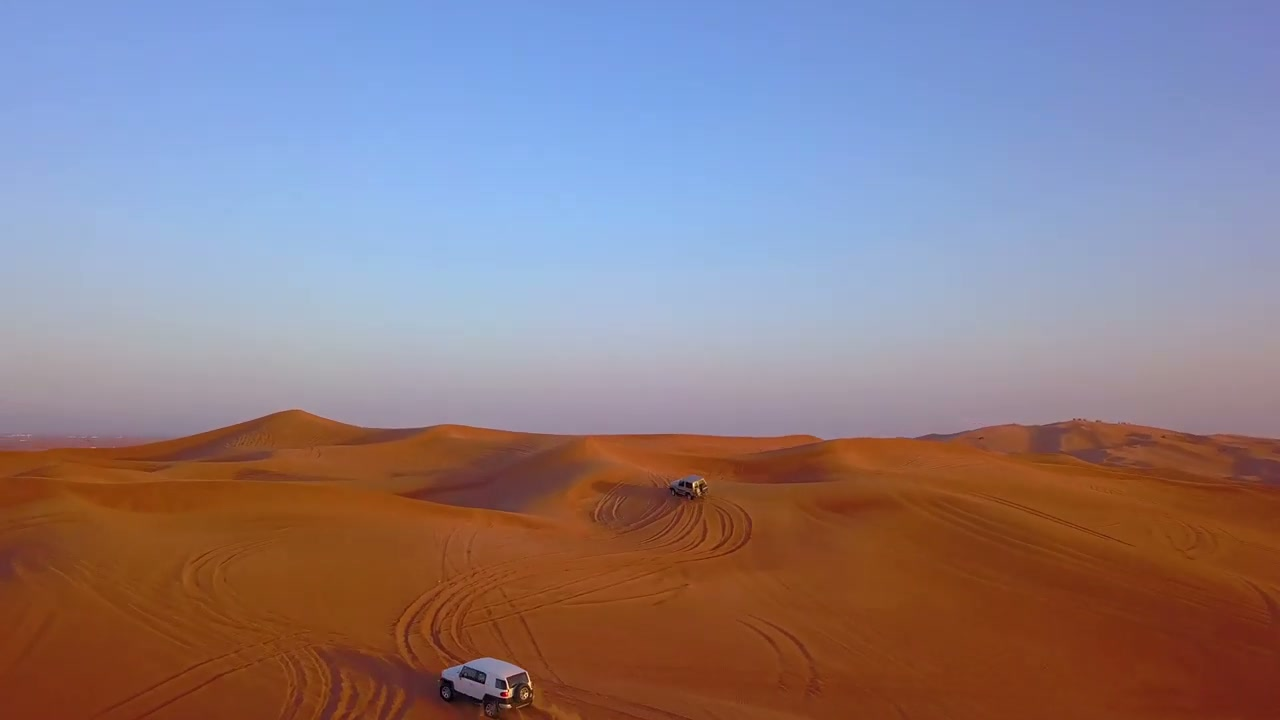vehicle_track: (394, 482, 751, 719), (908, 496, 1247, 615), (465, 500, 752, 626), (751, 576, 983, 717), (393, 551, 564, 666), (93, 632, 304, 718), (908, 496, 1100, 570), (50, 561, 208, 648), (463, 565, 670, 628), (291, 635, 420, 719), (180, 534, 287, 631), (971, 492, 1133, 547), (392, 528, 456, 666), (428, 568, 517, 661), (739, 615, 823, 697), (541, 680, 691, 719), (0, 594, 54, 675), (738, 618, 791, 692), (285, 643, 334, 719), (311, 651, 365, 719), (697, 497, 753, 559), (640, 500, 705, 552), (605, 486, 670, 536), (560, 583, 689, 605), (275, 647, 313, 719), (1160, 516, 1218, 559), (639, 501, 690, 548), (0, 511, 82, 536), (1241, 577, 1279, 629), (1218, 526, 1279, 555), (590, 483, 621, 527), (489, 622, 514, 655), (439, 529, 456, 576), (1089, 483, 1127, 495), (498, 585, 505, 599)
